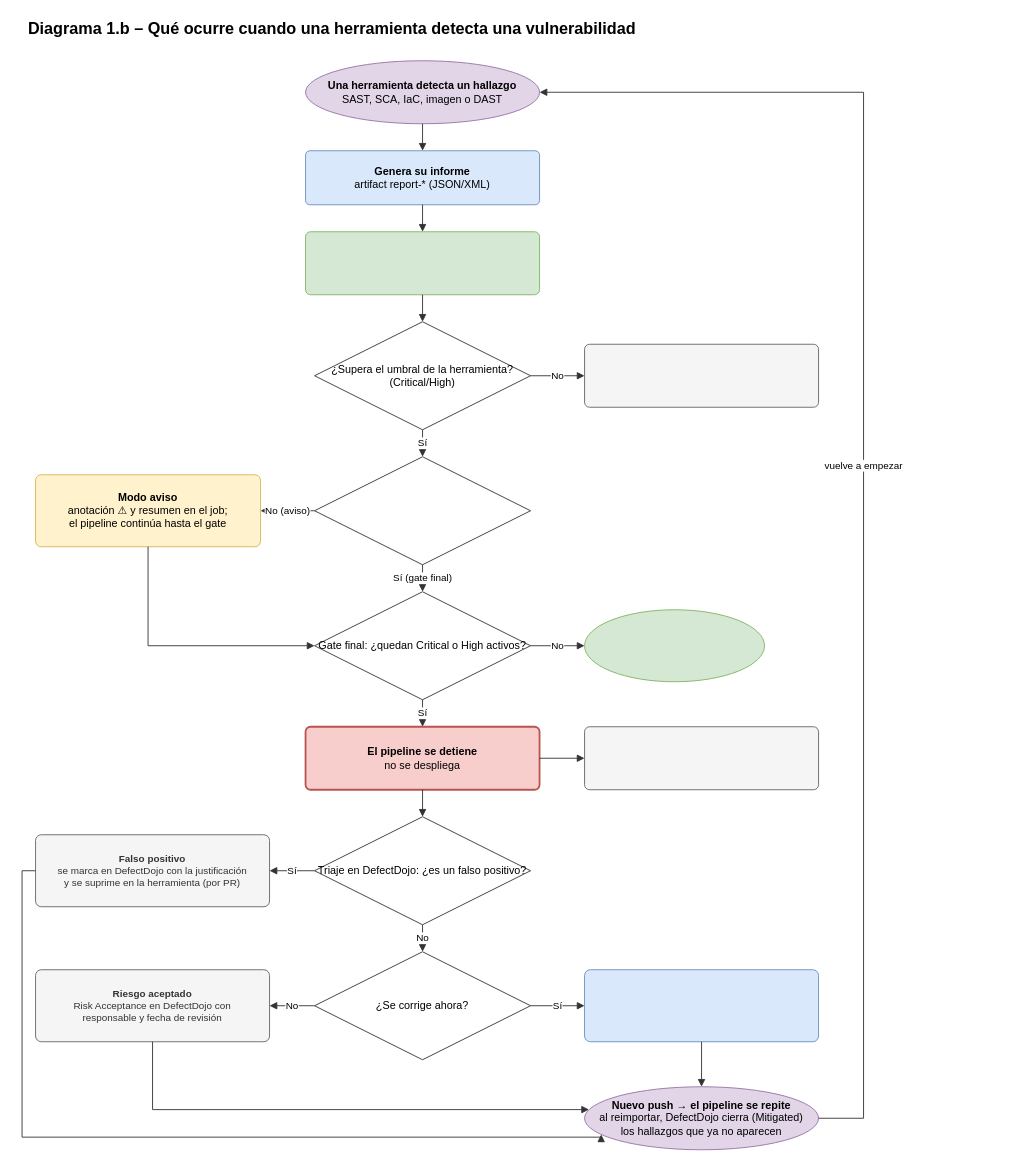
The diagram is 1032 pixels wide and 1166 high, and some of its shapes have lost their labels. Each missing label, with the centre of its shape:
"El gate pasa se despliega" belongs at (674,645).
"Importación automática a DefectDojo API v2 reimport · deduplica y clasifica" belongs at (422,263).
"Queda registrado en DefectDojo para priorizarlo; el pipeline continúa" belongs at (701,375).
"Se avisa email de GitHub al autor del commit + resumen del job para el equipo" belongs at (701,758).
"Se corrige el código o la configuración en una rama + pull request revisado" belongs at (701,1005).
"¿La etapa es bloqueante?" belongs at (422,510).
